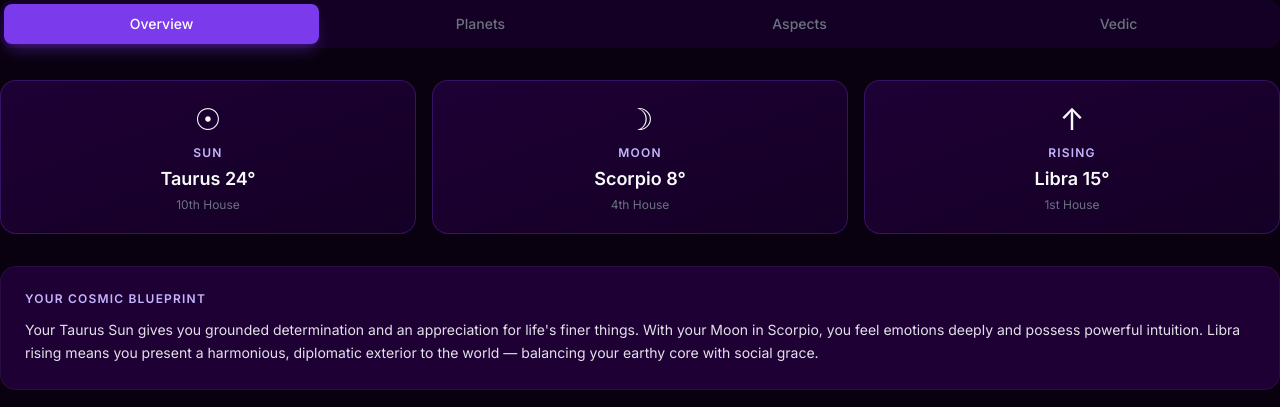
Test case: ChartTabs › shows coming soon on Vedic tab for premium users
Click the tab "Vedic".
click(1118, 24)  # box [961,4,1276,44]
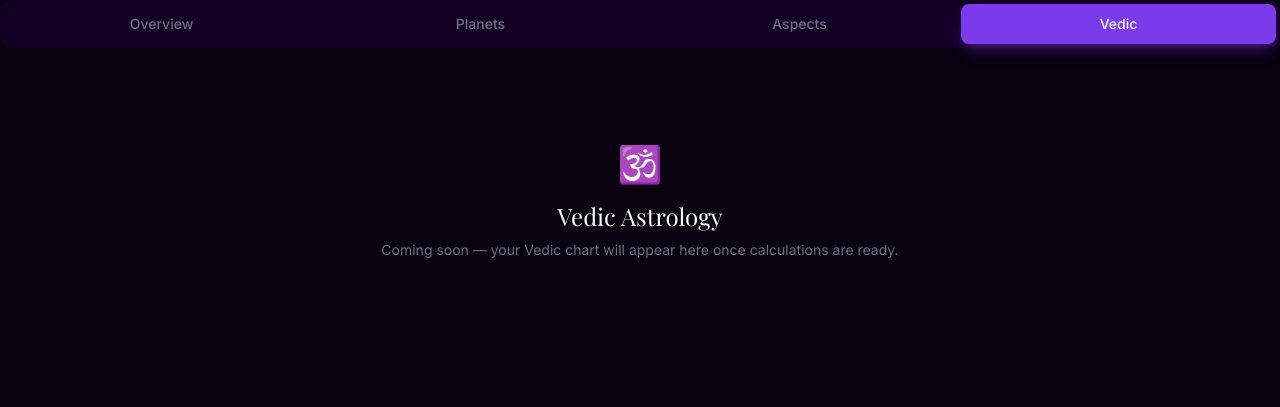
Expected: the text "Coming soon" is shown, [381,241,899,258]
